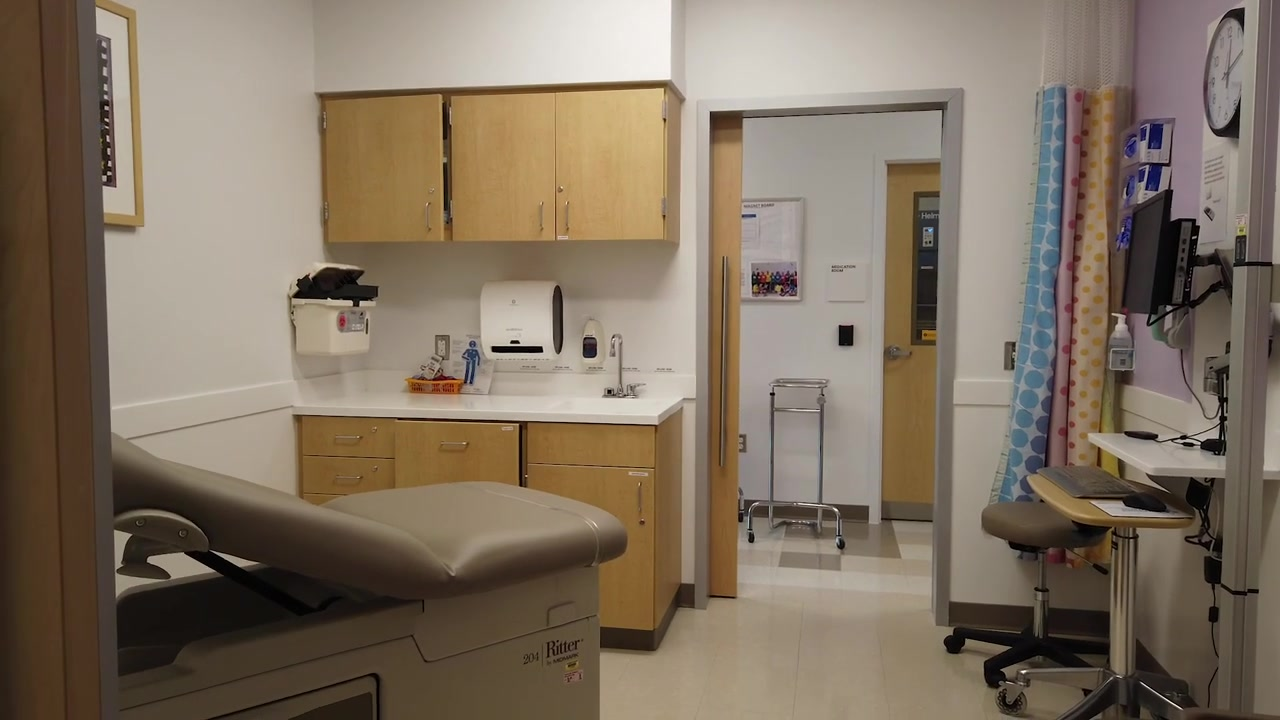cabinet: (319, 91, 687, 248)
chair: (944, 485, 1107, 720)
computer: (1119, 187, 1176, 315)
counter: (304, 390, 681, 653)
countertop: (292, 389, 684, 428), (1087, 428, 1280, 479)
curtain: (991, 1, 1136, 500)
dispenser: (477, 283, 565, 359), (1126, 123, 1174, 198), (1108, 312, 1135, 370), (579, 317, 607, 366)
door_handle: (887, 347, 915, 361)
exam_table: (111, 431, 628, 720)
faucet: (604, 333, 648, 400)
handle: (717, 256, 731, 472), (634, 477, 647, 526), (536, 201, 548, 233), (423, 202, 433, 234), (562, 199, 571, 233), (438, 441, 470, 450), (335, 474, 365, 483), (334, 435, 365, 442)
keyboard: (1037, 464, 1141, 499)
mouse: (1121, 490, 1168, 513)
sink: (549, 397, 670, 418)
utility_cart: (746, 379, 845, 556)
